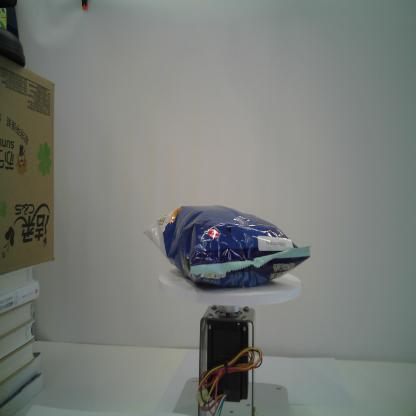Puffed Food: (144, 204, 311, 290)
